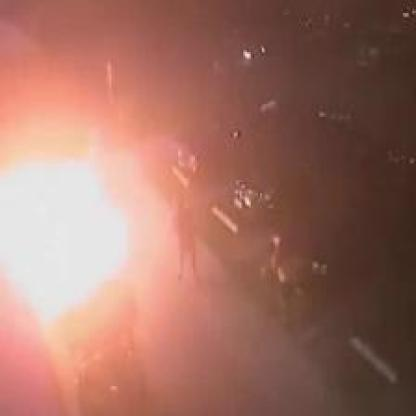fire: (2, 145, 148, 329)
